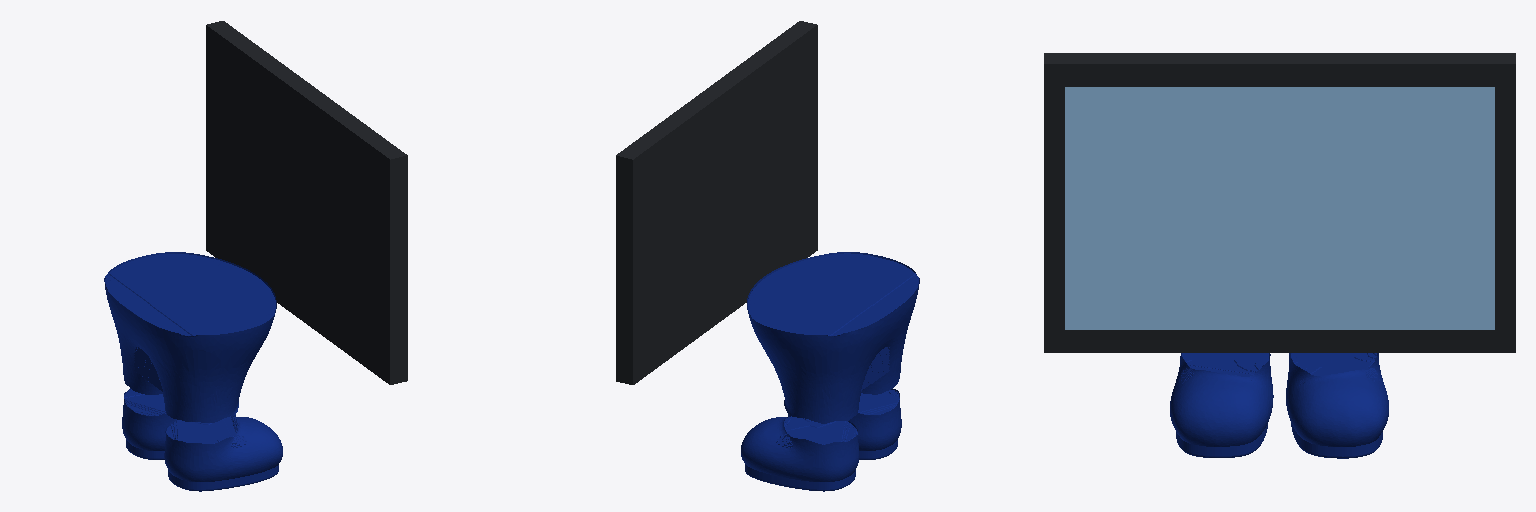
The robot description file, URDF, robot "haetburi":
<?xml version="1.0"?>
<!-- Haetburi biped (v16_sts3032) - generated by tools/build_model.py, do not edit by hand -->
<robot name="haetburi">
  <mujoco>
    <compiler meshdir="." balanceinertia="true" discardvisual="false" strippath="false" fusestatic="false"/>
  </mujoco>
  <material name="display"><color rgba="0.18 0.19 0.21 1"/></material>
  <material name="screen"><color rgba="0.62 0.80 0.95 1"/></material>
  <material name="shell"><color rgba="0.106 0.216 0.541 1"/></material>
  <material name="motor"><color rgba="0.15 0.15 0.17 1"/></material>
  <material name="foot"><color rgba="0.25 0.25 0.28 1"/></material>
  <link name="world"/>
  <joint name="floating_base" type="floating">
    <parent link="world"/><child link="pelvis"/>
    <origin xyz="0 0 0" rpy="0 0 0"/>
  </joint>
  <link name="pelvis">
    <inertial>
      <origin xyz="-0.00751117 -6.91535e-05 0.0406947" rpy="0 0 0"/>
      <mass value="0.27897"/>
      <inertia ixx="0.000337602" ixy="1.72202e-07" ixz="0.000114748" iyy="0.000402564" iyz="-3.00608e-07" izz="0.000345076"/>
    </inertial>
    <visual><origin xyz="0 0 0" rpy="0 0 0"/><geometry><mesh filename="meshes/pelvis.stl"/></geometry><material name="shell"/></visual>
    <visual><origin xyz="0.00550268 0.0248715 0.02575" rpy="0 0 0"/><geometry><box size="0.023 0.012 0.0275"/></geometry><material name="motor"/></visual>
    <visual><origin xyz="0.00549732 -0.0251784 0.02575" rpy="0 0 0"/><geometry><box size="0.023 0.012 0.0275"/></geometry><material name="motor"/></visual>
    <collision><origin xyz="0.00758599 -0.000148619 0.026535" rpy="0 0 0"/><geometry><box size="0.0909524 0.120779 0.05307"/></geometry></collision>
  </link>
  <link name="torso">
    <inertial>
      <origin xyz="0.0218541 0.000105585 0.13228" rpy="0 0 0"/>
      <mass value="2.25295"/>
      <inertia ixx="0.0379036" ixy="-0.000111273" ixz="0.0068222" iyy="0.0381315" iyz="-0.000107026" izz="0.0208392"/>
    </inertial>
    <visual><origin xyz="0 0 0" rpy="0 0 0"/><geometry><mesh filename="meshes/torso.stl"/></geometry><material name="shell"/></visual>
    <visual><origin xyz="0.0853497 0 0.0411397" rpy="0 0 0"/><geometry><box size="0.012006 0.219762 0.148561"/></geometry><material name="display"/></visual>
    <visual><origin xyz="0.0913527 0 0.0411397" rpy="0 0 0"/><geometry><box size="0.0004 0.200448 0.12528"/></geometry><material name="screen"/></visual>
    <collision><origin xyz="-0.0396274 -1.84473e-06 0.0292355" rpy="0 0 0"/><geometry><box size="0.186007 0.126126 0.124207"/></geometry></collision>
    <collision><origin xyz="0.0483894 0.0976957 0.0589118" rpy="0 0 0"/><geometry><sphere radius="0.0706689"/></geometry></collision>
    <collision><origin xyz="0.0487239 -0.0978455 0.0589118" rpy="0 0 0"/><geometry><sphere radius="0.070601"/></geometry></collision>
    <collision><origin xyz="-0.00607369 0.000310614 0.119265" rpy="0 0 0"/><geometry><sphere radius="0.121211"/></geometry></collision>
    <collision><origin xyz="-0.0105836 -0.000142804 0.17508" rpy="0 0 0"/><geometry><sphere radius="0.139842"/></geometry></collision>
    <collision><origin xyz="-0.0161158 -0.000235694 0.230904" rpy="0 0 0"/><geometry><sphere radius="0.138222"/></geometry></collision>
    <collision><origin xyz="-0.0126428 0.000995648 0.286726" rpy="0 0 0"/><geometry><sphere radius="0.120189"/></geometry></collision>
    <collision><origin xyz="-0.00748114 0.00788083 0.342582" rpy="0 0 0"/><geometry><sphere radius="0.0856671"/></geometry></collision>
    <collision><origin xyz="-0.0137102 -0.00260479 0.398389" rpy="0 0 0"/><geometry><sphere radius="0.0497152"/></geometry></collision>
    <collision><origin xyz="0.0853497 0 0.0411397" rpy="0 0 0"/><geometry><box size="0.012006 0.219762 0.148561"/></geometry></collision>
  </link>
  <link name="leg_l">
    <inertial>
      <origin xyz="-0.000415652 -0.000149916 -0.0231074" rpy="0 0 0"/>
      <mass value="0.0288659"/>
      <inertia ixx="9.55403e-06" ixy="-6.59258e-09" ixz="1.68241e-07" iyy="7.7117e-06" iyz="7.3898e-08" izz="7.17531e-06"/>
    </inertial>
    <visual><origin xyz="0 0 0" rpy="0 0 0"/><geometry><mesh filename="meshes/leg_l.stl"/></geometry><material name="shell"/></visual>
    <collision><origin xyz="-5.75414e-07 -7.93259e-06 -0.00621227" rpy="0 0 0"/><geometry><box size="0.0474441 0.0434668 0.0124245"/></geometry></collision>
  </link>
  <link name="ankle_l">
    <inertial>
      <origin xyz="-0.00225187 -0.000752099 -0.000304338" rpy="0 0 0"/>
      <mass value="0.0468531"/>
      <inertia ixx="4.27823e-06" ixy="-3.12497e-07" ixz="-1.26452e-07" iyy="6.08482e-06" iyz="-1.22686e-08" izz="8.29625e-06"/>
    </inertial>
    <visual><origin xyz="0.0055 0 0" rpy="0 0 0"/><geometry><box size="0.023 0.0275 0.012"/></geometry><material name="motor"/></visual>
  </link>
  <link name="foot_l">
    <inertial>
      <origin xyz="0.00874076 0.00109887 0.0013799" rpy="0 0 0"/>
      <mass value="0.0832988"/>
      <inertia ixx="1.92356e-05" ixy="-1.63459e-06" ixz="-1.16978e-06" iyy="3.59748e-05" iyz="-1.49813e-07" izz="3.79641e-05"/>
    </inertial>
    <visual><origin xyz="0 0 0" rpy="0 0 0"/><geometry><mesh filename="meshes/foot_l.stl"/></geometry><material name="shell"/></visual>
    <visual><origin xyz="0 0 0.0055" rpy="0 0 0"/><geometry><box size="0.0275 0.012 0.023"/></geometry><material name="motor"/></visual>
    <collision><origin xyz="0 0 0" rpy="0 0 0"/><geometry><mesh filename="meshes/foot_l.stl"/></geometry></collision>
  </link>
  <link name="leg_r">
    <inertial>
      <origin xyz="-0.000310655 0.000172627 -0.0228219" rpy="0 0 0"/>
      <mass value="0.0289822"/>
      <inertia ixx="9.53554e-06" ixy="-2.75986e-08" ixz="1.29313e-07" iyy="7.6229e-06" iyz="-8.43326e-08" izz="7.23093e-06"/>
    </inertial>
    <visual><origin xyz="0 0 0" rpy="0 0 0"/><geometry><mesh filename="meshes/leg_r.stl"/></geometry><material name="shell"/></visual>
    <collision><origin xyz="1.37415e-06 1.25756e-05 -0.00613261" rpy="0 0 0"/><geometry><box size="0.0474057 0.0435504 0.0122652"/></geometry></collision>
  </link>
  <link name="ankle_r">
    <inertial>
      <origin xyz="-0.00225187 0.00076959 -0.000405784" rpy="0 0 0"/>
      <mass value="0.0468531"/>
      <inertia ixx="4.28352e-06" ixy="3.19764e-07" ixz="-1.68603e-07" iyy="6.08869e-06" iyz="1.67386e-08" izz="8.29767e-06"/>
    </inertial>
    <visual><origin xyz="0.0055 0 0" rpy="0 0 0"/><geometry><box size="0.023 0.0275 0.012"/></geometry><material name="motor"/></visual>
  </link>
  <link name="foot_r">
    <inertial>
      <origin xyz="0.00906035 -0.00121119 0.00134148" rpy="0 0 0"/>
      <mass value="0.0831264"/>
      <inertia ixx="1.91345e-05" ixy="1.79445e-06" ixz="-1.13969e-06" iyy="3.62946e-05" iyz="1.66201e-07" izz="3.83207e-05"/>
    </inertial>
    <visual><origin xyz="0 0 0" rpy="0 0 0"/><geometry><mesh filename="meshes/foot_r.stl"/></geometry><material name="shell"/></visual>
    <visual><origin xyz="0 0 0.0055" rpy="0 0 0"/><geometry><box size="0.0275 0.012 0.023"/></geometry><material name="motor"/></visual>
    <collision><origin xyz="0 0 0" rpy="0 0 0"/><geometry><mesh filename="meshes/foot_r.stl"/></geometry></collision>
  </link>
  <joint name="waist_fixed" type="fixed">
    <parent link="pelvis"/><child link="torso"/>
    <origin xyz="0 0 0.05307" rpy="0 0 0"/>
  </joint>
  <joint name="hip_yaw_l" type="revolute">
    <parent link="pelvis"/><child link="leg_l"/>
    <origin xyz="2.67889e-06 0.0248715 0" rpy="0 0 0"/>
    <axis xyz="0 0 1"/>
    <limit lower="-0.523599" upper="0.523599" effort="0.44" velocity="11.6"/>
    <dynamics damping="0.03142857142857144" friction="0.012571428571428574"/>
  </joint>
  <joint name="hip_yaw_r" type="revolute">
    <parent link="pelvis"/><child link="leg_r"/>
    <origin xyz="-2.67889e-06 -0.0251784 0" rpy="0 0 0"/>
    <axis xyz="0 0 1"/>
    <limit lower="-0.523599" upper="0.523599" effort="0.44" velocity="11.6"/>
    <dynamics damping="0.03142857142857144" friction="0.012571428571428574"/>
  </joint>
  <joint name="ankle_pitch_l" type="revolute">
    <parent link="leg_l"/><child link="ankle_l"/>
    <origin xyz="0.018274 0.00297246 -0.0453525" rpy="0 0 0"/>
    <axis xyz="0 1 0"/>
    <limit lower="-0.261799" upper="0.261799" effort="0.44" velocity="11.6"/>
    <dynamics damping="0.03142857142857144" friction="0.012571428571428574"/>
  </joint>
  <joint name="ankle_pitch_r" type="revolute">
    <parent link="leg_r"/><child link="ankle_r"/>
    <origin xyz="0.0175258 -0.00285161 -0.0449175" rpy="0 0 0"/>
    <axis xyz="0 1 0"/>
    <limit lower="-0.261799" upper="0.261799" effort="0.44" velocity="11.6"/>
    <dynamics damping="0.03142857142857144" friction="0.012571428571428574"/>
  </joint>
  <joint name="ankle_roll_l" type="revolute">
    <parent link="ankle_l"/><child link="foot_l"/>
    <origin xyz="-0.02224 -0.003225 -0.001305" rpy="0 0 0"/>
    <axis xyz="1 0 0"/>
    <limit lower="-0.20944" upper="0.20944" effort="0.44" velocity="11.6"/>
    <dynamics damping="0.03142857142857144" friction="0.012571428571428574"/>
  </joint>
  <joint name="ankle_roll_r" type="revolute">
    <parent link="ankle_r"/><child link="foot_r"/>
    <origin xyz="-0.02224 0.0033 -0.00174" rpy="0 0 0"/>
    <axis xyz="1 0 0"/>
    <limit lower="-0.20944" upper="0.20944" effort="0.44" velocity="11.6"/>
    <dynamics damping="0.03142857142857144" friction="0.012571428571428574"/>
  </joint>
</robot>

--- Facts derived from the render (not from the file) ---
3 views of the same robot in one strip: view 1: azimuth 30°, elevation 25°; view 2: azimuth 150°, elevation 25°; view 3: azimuth 270°, elevation 25° (orthographic).
Model haetburi with 9 links and 8 joints (6 revolute, 1 fixed, 1 floating), rooted at world, posed all joints at 0.
Links seen in each view (by area): view 1: torso, pelvis, foot_r, foot_l, leg_r, leg_l; view 2: torso, pelvis, foot_l, foot_r, leg_l; view 3: torso, foot_r, foot_l.
Link boxes in pixels (x1=…): torso: x1=206, y1=21, x2=407, y2=384; pelvis: x1=104, y1=252, x2=276, y2=407; foot_r: x1=164, y1=416, x2=282, y2=491; foot_l: x1=122, y1=388, x2=235, y2=459; leg_r: x1=163, y1=395, x2=239, y2=422; leg_l: x1=123, y1=365, x2=162, y2=394; torso: x1=616, y1=21, x2=817, y2=384; pelvis: x1=747, y1=252, x2=919, y2=407; foot_l: x1=741, y1=416, x2=858, y2=491; foot_r: x1=788, y1=389, x2=901, y2=459; leg_l: x1=784, y1=394, x2=860, y2=423; torso: x1=1044, y1=53, x2=1515, y2=352; foot_r: x1=1170, y1=353, x2=1273, y2=457; foot_l: x1=1286, y1=353, x2=1388, y2=458.
Bounding box of the posed robot: 0.1294 × 0.2198 × 0.2248 m (x, y, z).
5 mesh visuals loaded from 6 distinct referenced files (5 binary STL); not drawn: 1 (reference not matched to a file when rendering).
